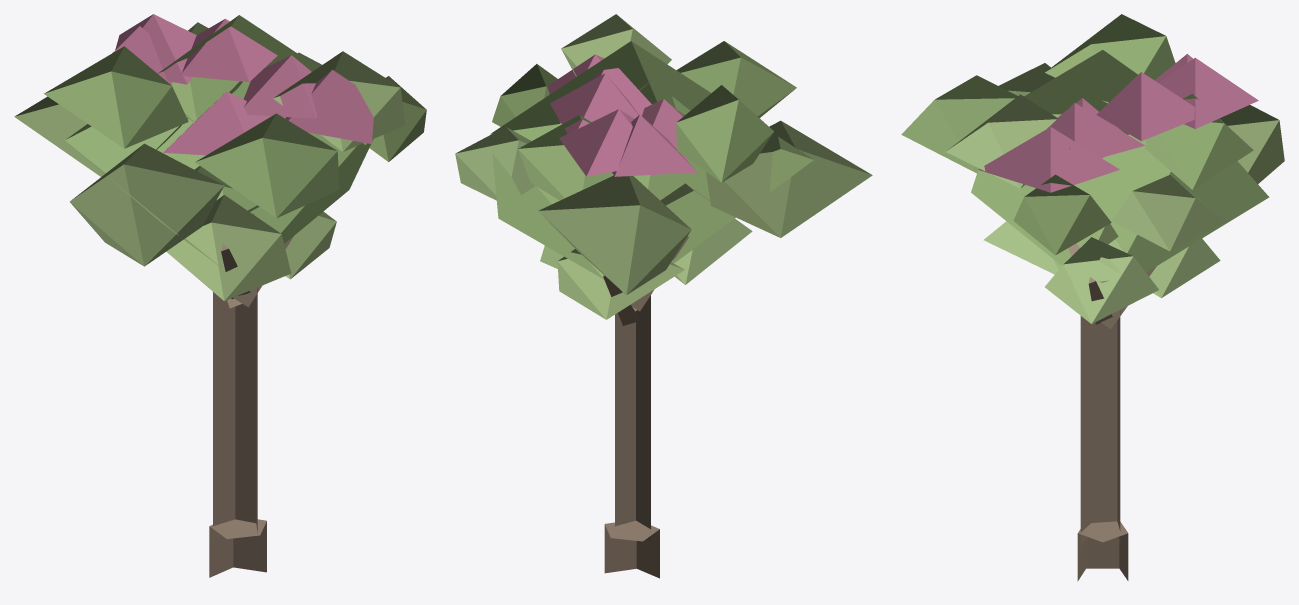
File: tree.sub.paulownia__bloom.glb
3 renders of one model, left to right at view 1: azimuth 30°, elevation 25°; view 2: azimuth 150°, elevation 25°; view 3: azimuth 270°, elevation 25°, orthographic. The views are drawn at different scales.
Parts seen in each view (by area): view 1: tree.sub.paulownia__bloom; view 2: tree.sub.paulownia__bloom; view 3: tree.sub.paulownia__bloom.
Boxes of the visible parts, <box> form: tree.sub.paulownia__bloom: <box>14,14,426,577</box>; tree.sub.paulownia__bloom: <box>455,14,872,578</box>; tree.sub.paulownia__bloom: <box>901,14,1284,581</box>.
Bounding box in the file's own units: 10.93 × 16.56 × 10.89.
